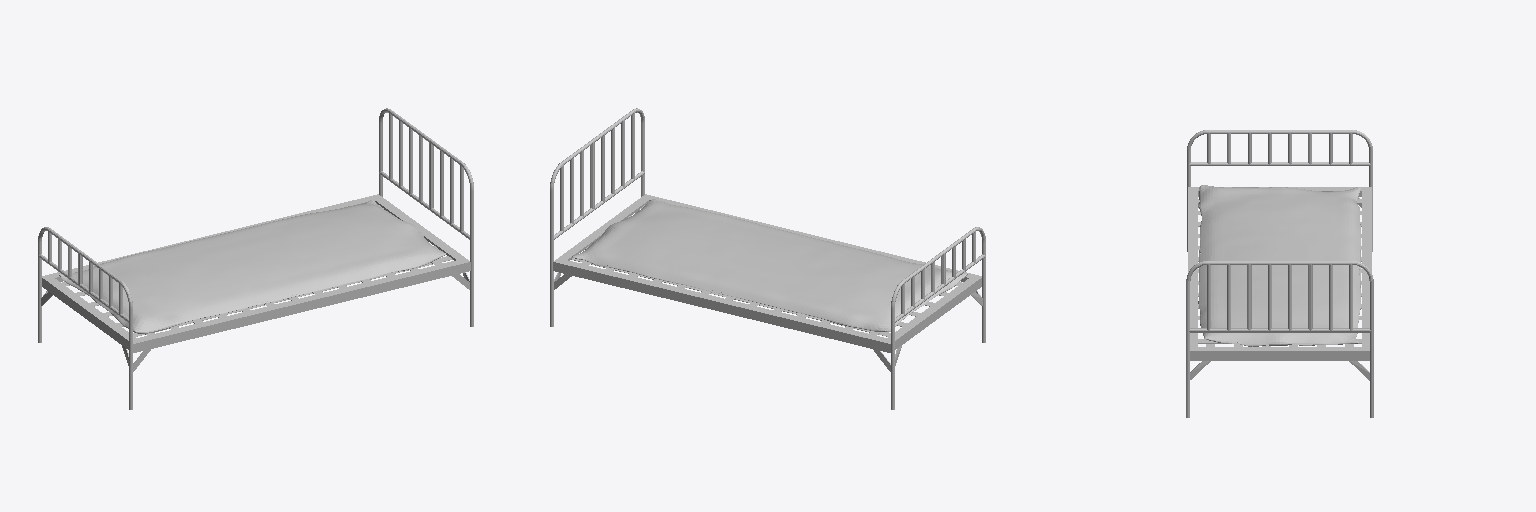
Rendered from bed.obj.
The picture shows the model from 3 angles: view 1: azimuth 30°, elevation 25°; view 2: azimuth 150°, elevation 25°; view 3: azimuth 270°, elevation 25°; orthographic projection.
Parts seen in each view (by area): view 1: mattress, base, head, bottom, grid; view 2: mattress, base, head, bottom, grid; view 3: mattress, base, head, bottom.
Part boxes in pixels (x1,y1,x2,y2): mattress: (59, 200, 445, 333); base: (42, 194, 470, 352); head: (379, 108, 473, 326); bottom: (38, 227, 132, 409); grid: (62, 205, 452, 336); mattress: (572, 199, 967, 331); base: (553, 194, 981, 352); head: (550, 108, 644, 326); bottom: (891, 227, 985, 409); grid: (571, 205, 961, 336); mattress: (1198, 185, 1360, 346); base: (1188, 187, 1371, 360); head: (1186, 261, 1373, 417); bottom: (1187, 130, 1372, 251).
Size of the model in its own units: 0.1937 by 0.0842 by 0.0912.